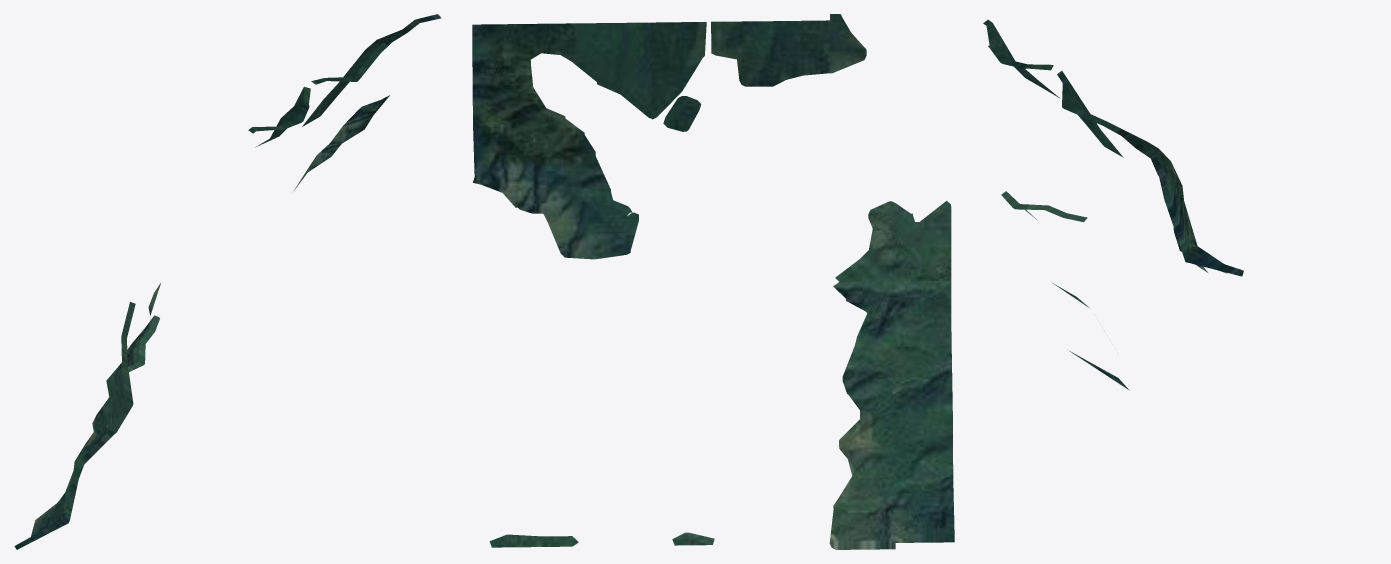
The picture shows the model from 3 angles, left to right: view 1: azimuth 30°, elevation 25°; view 2: azimuth 150°, elevation 25°; view 3: azimuth 270°, elevation 25°; orthographic projection. The views are drawn at different scales.
Bounding box in the file's own units: 2490 × 2269 × 1766.
Materials: 1 (1 with a texture image).
